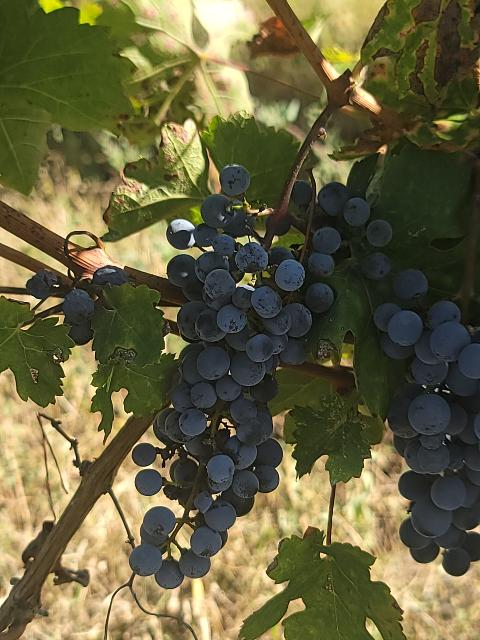grapes: (129, 164, 312, 589), (372, 300, 480, 574)
